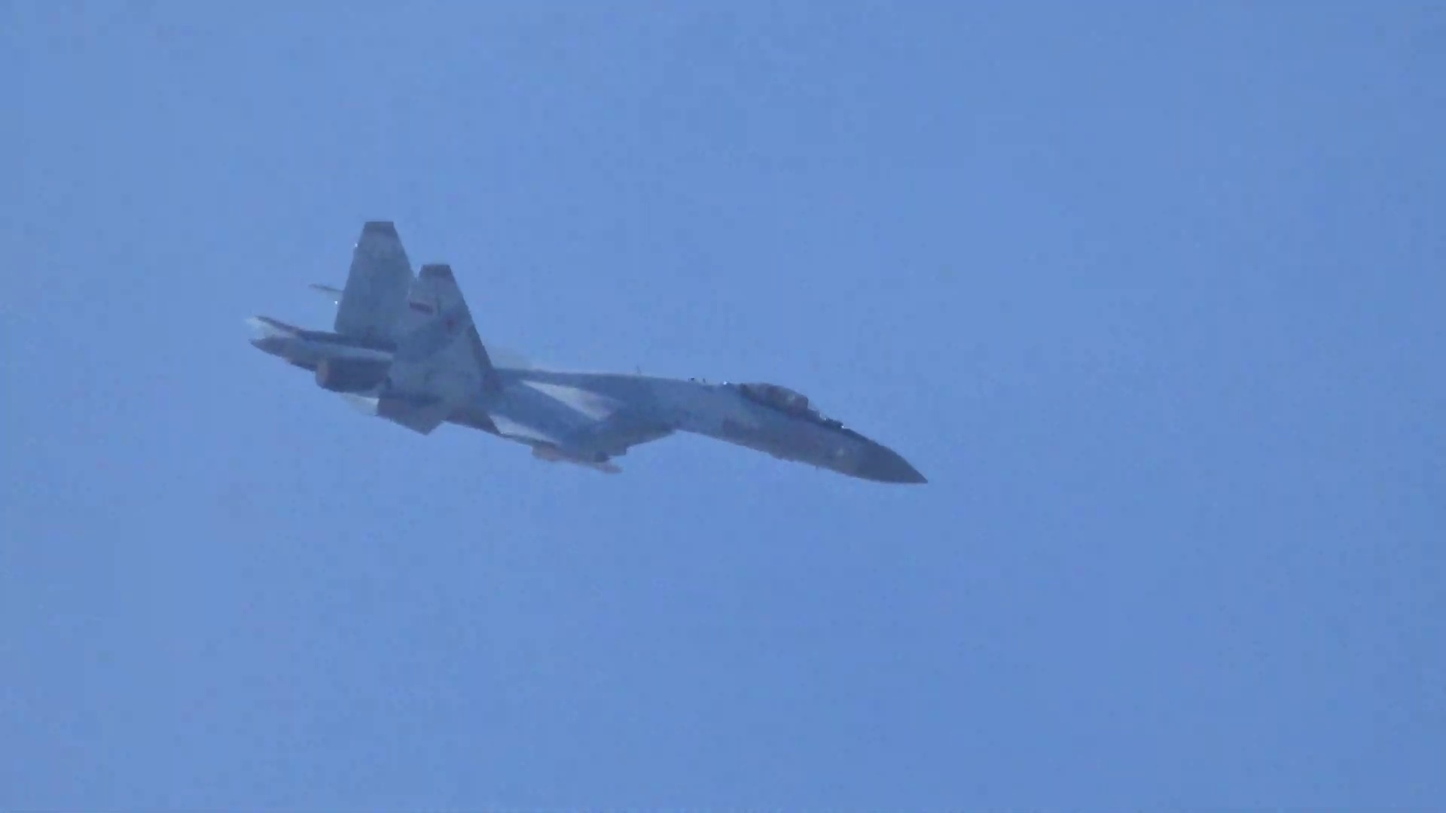Su35: (250, 219, 927, 485)
